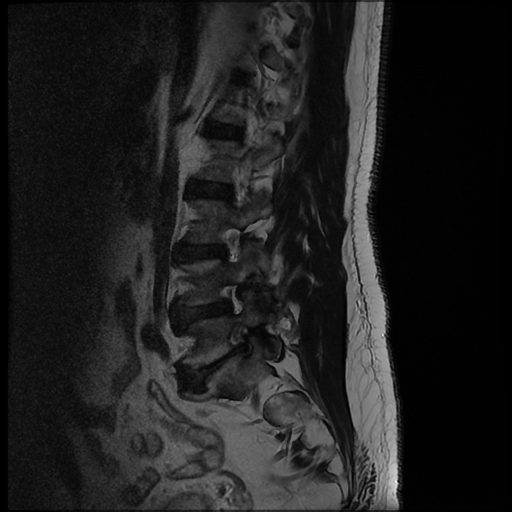RFS1: (215, 274, 249, 319)
